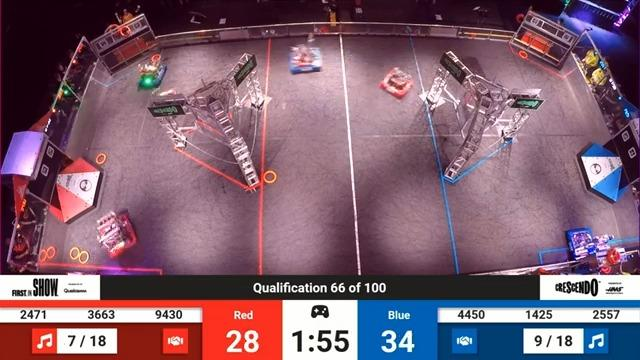robot: (92, 206, 148, 259), (563, 218, 611, 263), (286, 44, 334, 82), (377, 64, 420, 101), (142, 55, 172, 84)
